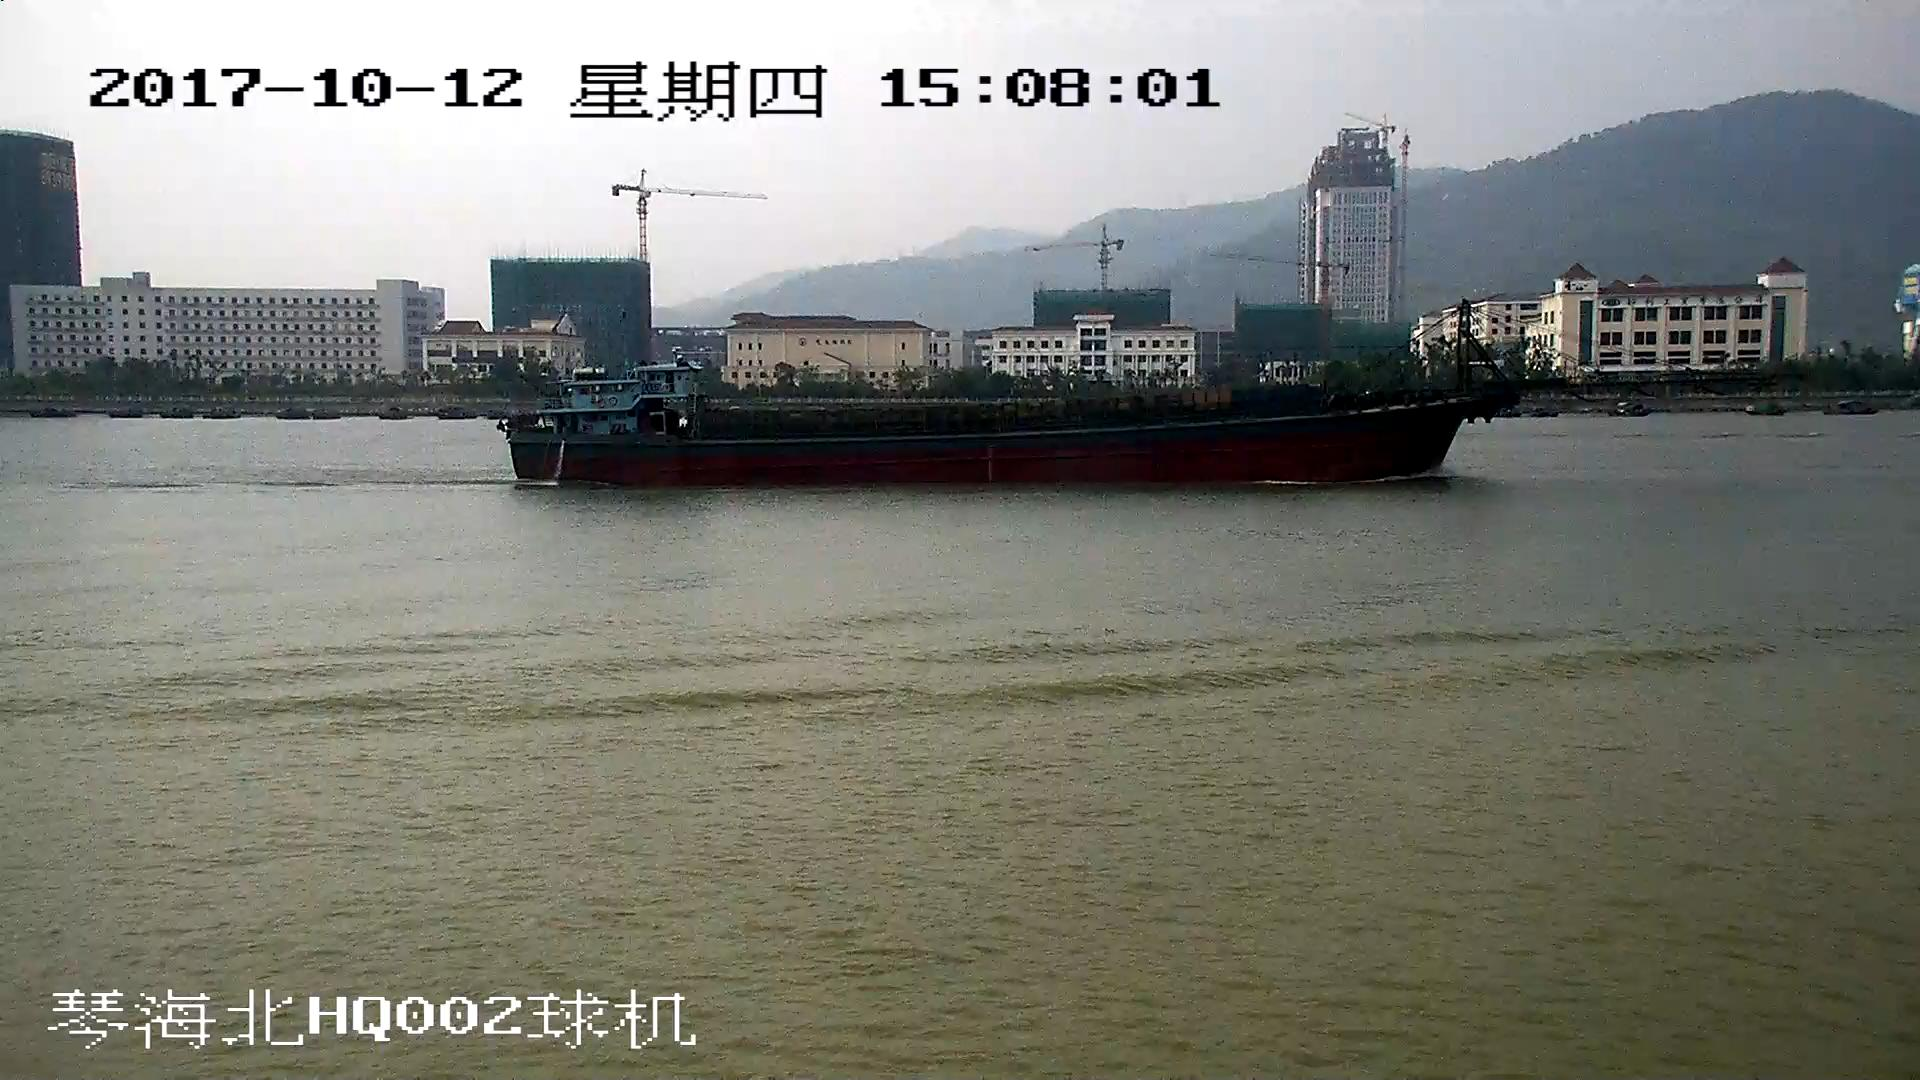bulk cargo carrier: (503, 304, 1621, 488)
